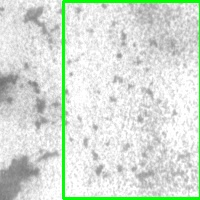pitted_surface: (63, 1, 200, 198), (1, 1, 62, 198)
